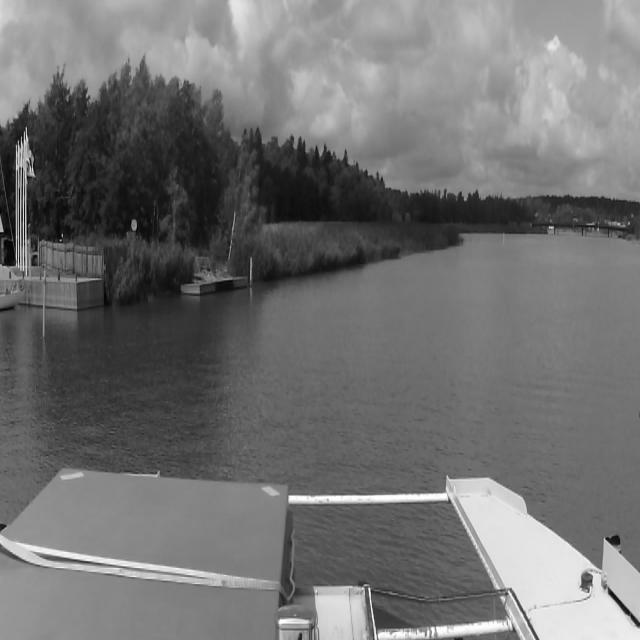buoy: (42, 269, 46, 339), (503, 230, 505, 244)
